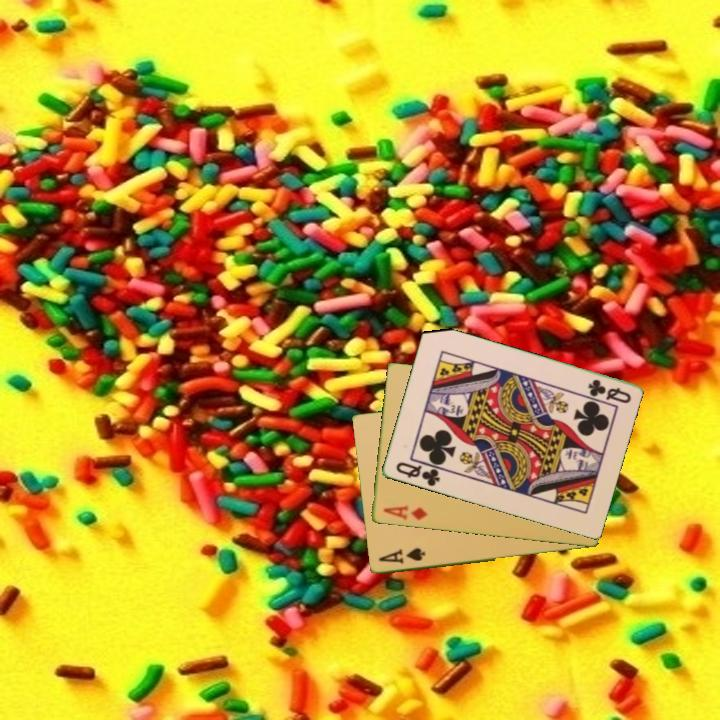Ad: (380, 502, 430, 523)
As: (375, 544, 428, 567)
Qc: (392, 458, 443, 489), (584, 376, 634, 406)
